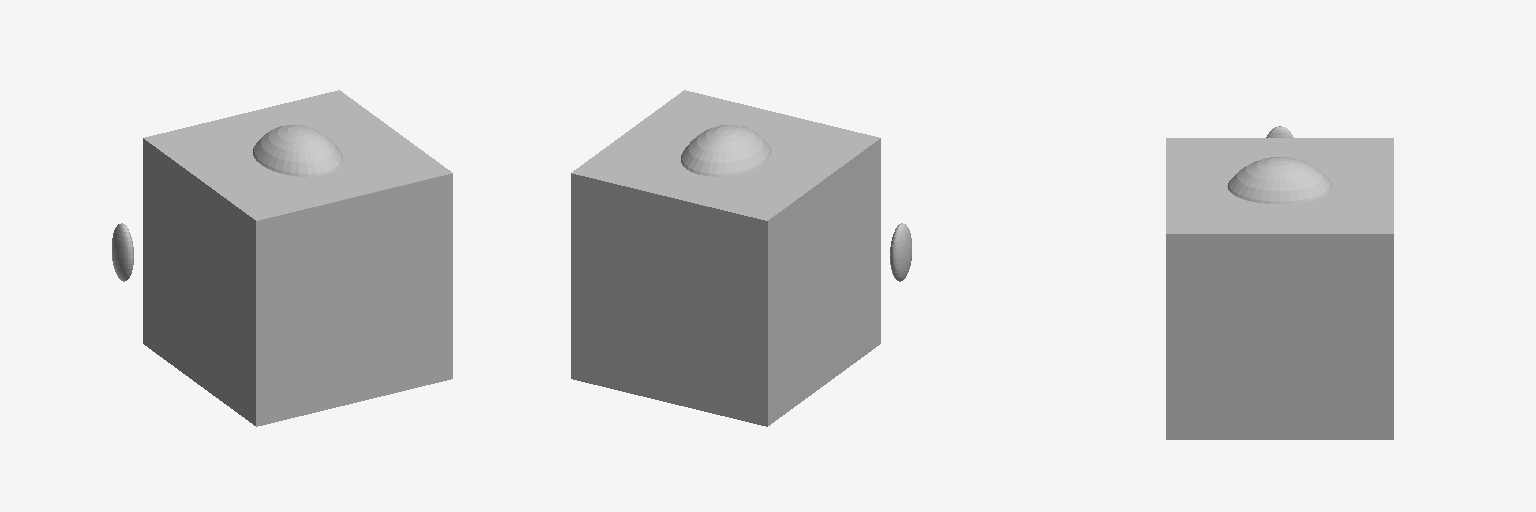
Rendered from figureOBJ.obj.
3 renders of one model, left to right at view 1: azimuth 30°, elevation 25°; view 2: azimuth 150°, elevation 25°; view 3: azimuth 270°, elevation 25°, orthographic.
Visible parts, largest first — view 1: cutter_Cube.001, helm_Sphere.004, hands_Sphere.003; view 2: cutter_Cube.001, helm_Sphere.004, hands_Sphere.003; view 3: cutter_Cube.001, helm_Sphere.004.
Part boxes in pixels (x1,y1,x2,y2): cutter_Cube.001: (143, 90, 452, 426); helm_Sphere.004: (253, 125, 342, 176); hands_Sphere.003: (112, 223, 133, 281); cutter_Cube.001: (571, 90, 880, 426); helm_Sphere.004: (681, 125, 770, 176); hands_Sphere.003: (890, 223, 911, 281); cutter_Cube.001: (1166, 138, 1393, 439); helm_Sphere.004: (1227, 157, 1332, 203).
Size of the model in its own units: 4.05 by 3.19 by 2.83.